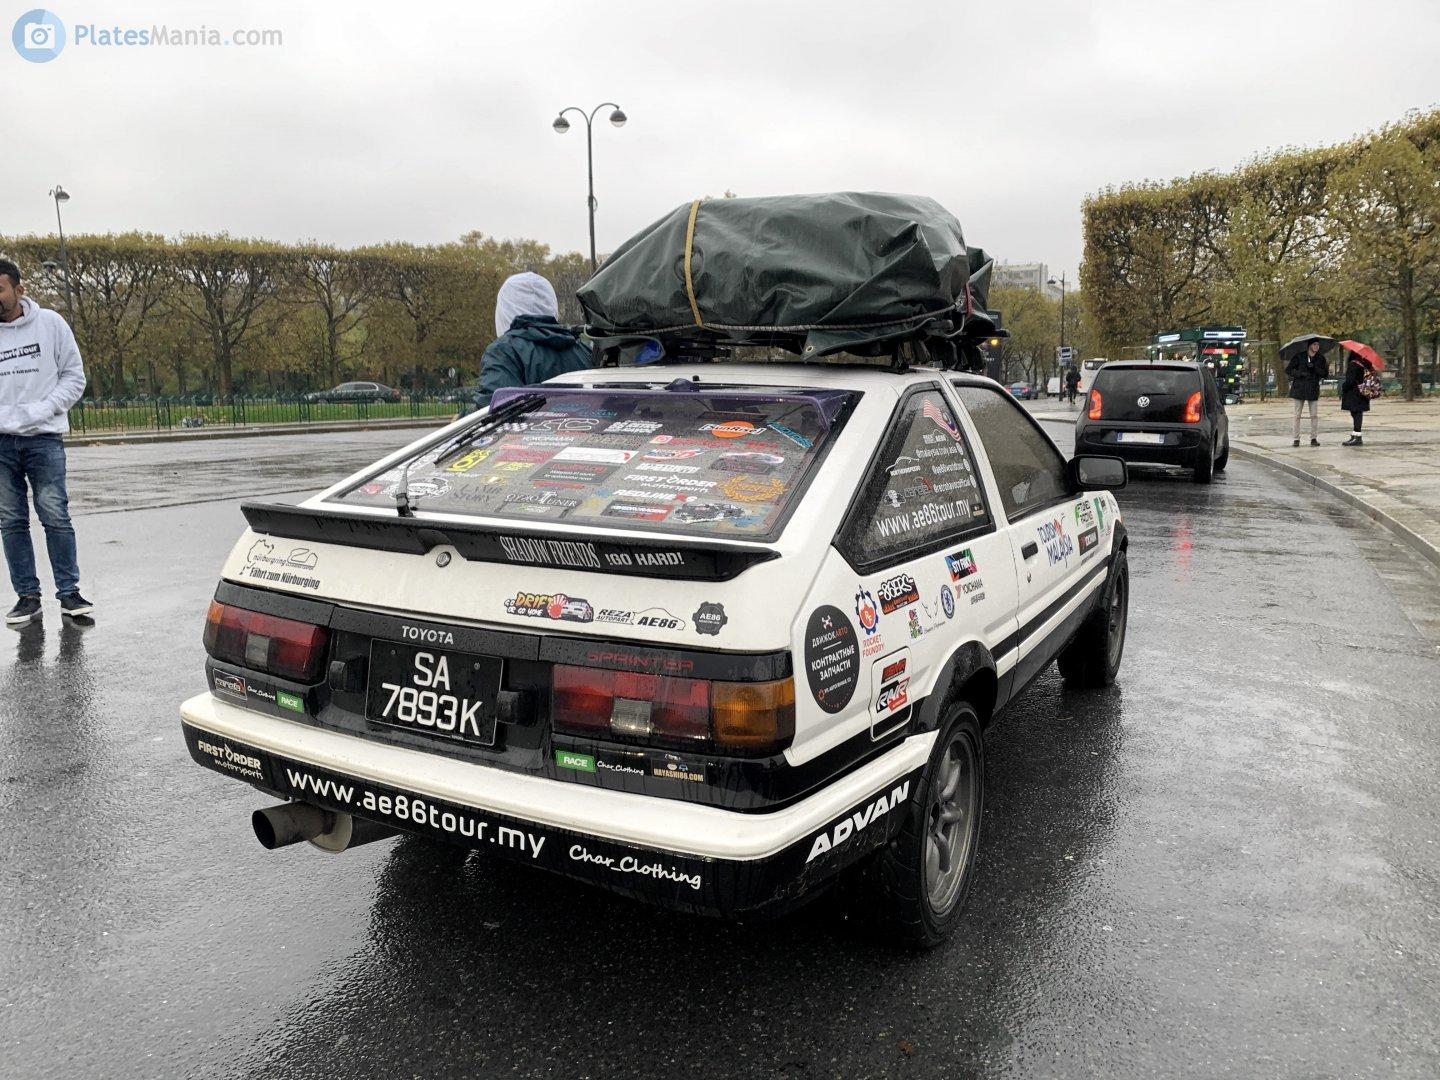License Plate: (367, 640, 509, 749)
